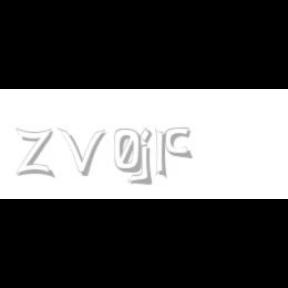0: (114, 128, 146, 174)
V: (58, 128, 106, 176)
Z: (16, 128, 52, 178)
c: (164, 128, 194, 160)
j: (138, 128, 166, 186)
l: (155, 128, 171, 180)
